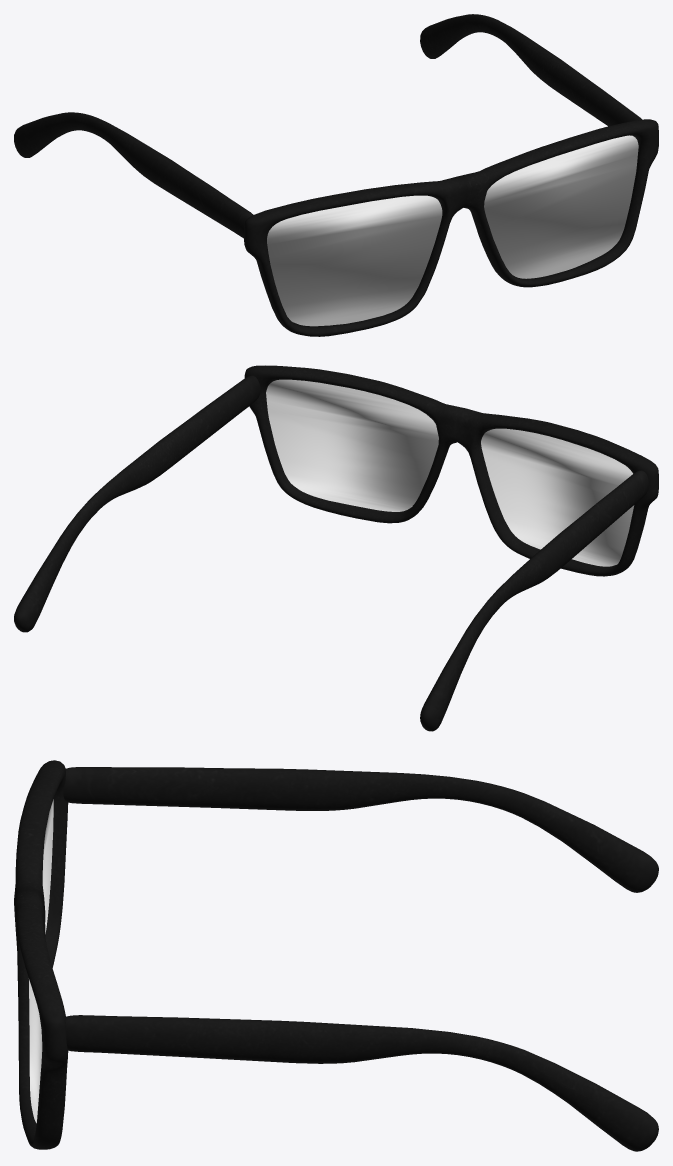
File: square.glb
3 views of the same model, one above another, from view 1: azimuth 30°, elevation 25°; view 2: azimuth 150°, elevation 25°; view 3: azimuth 270°, elevation 25° (orthographic). The views are drawn at different scales.
Visible parts, largest first — view 1: Object_5, Object_4, Object_7; view 2: Object_5, Object_7, Object_4; view 3: Object_7, Object_4, Object_5.
Part boxes in pixels (bbox=[...]): Object_5: bbox=[267, 135, 638, 326]; Object_4: bbox=[244, 119, 658, 336]; Object_7: bbox=[14, 14, 641, 238]; Object_5: bbox=[266, 379, 634, 566]; Object_7: bbox=[14, 375, 648, 731]; Object_4: bbox=[244, 365, 658, 576]; Object_7: bbox=[63, 767, 658, 1151]; Object_4: bbox=[14, 760, 68, 1149]; Object_5: bbox=[29, 799, 53, 1123].
Size of the model in its own units: 3.71 by 1.15 by 3.75.
2 materials, 1 textured.
